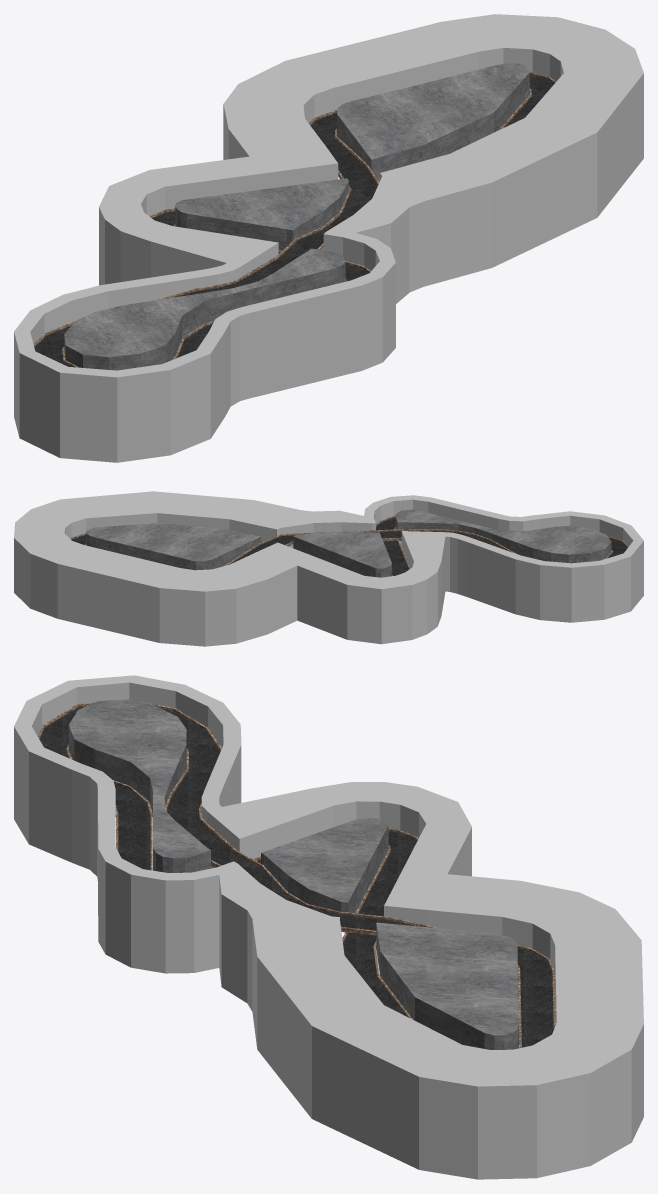
File: trackcircuit_2.fbx
3 views of the same model, one above another, from view 1: azimuth 30°, elevation 25°; view 2: azimuth 150°, elevation 25°; view 3: azimuth 270°, elevation 25° (orthographic). The views are drawn at different scales.
Parts seen in each view (by area): view 1: track_terrain2, track_terrain, track; view 2: track_terrain2, track_terrain, track; view 3: track_terrain2, track_terrain, track.
Boxes of the visible parts, <box> form: track_terrain2: <box>14,14,643,462</box>; track_terrain: <box>64,63,529,370</box>; track: <box>33,72,556,367</box>; track_terrain2: <box>14,491,643,646</box>; track_terrain: <box>86,509,611,577</box>; track: <box>70,515,628,576</box>; track_terrain2: <box>14,675,643,1179</box>; track_terrain: <box>68,699,519,1049</box>; track: <box>38,699,555,1048</box>.
Size of the model in its own units: 42307 by 4465 by 27393.
